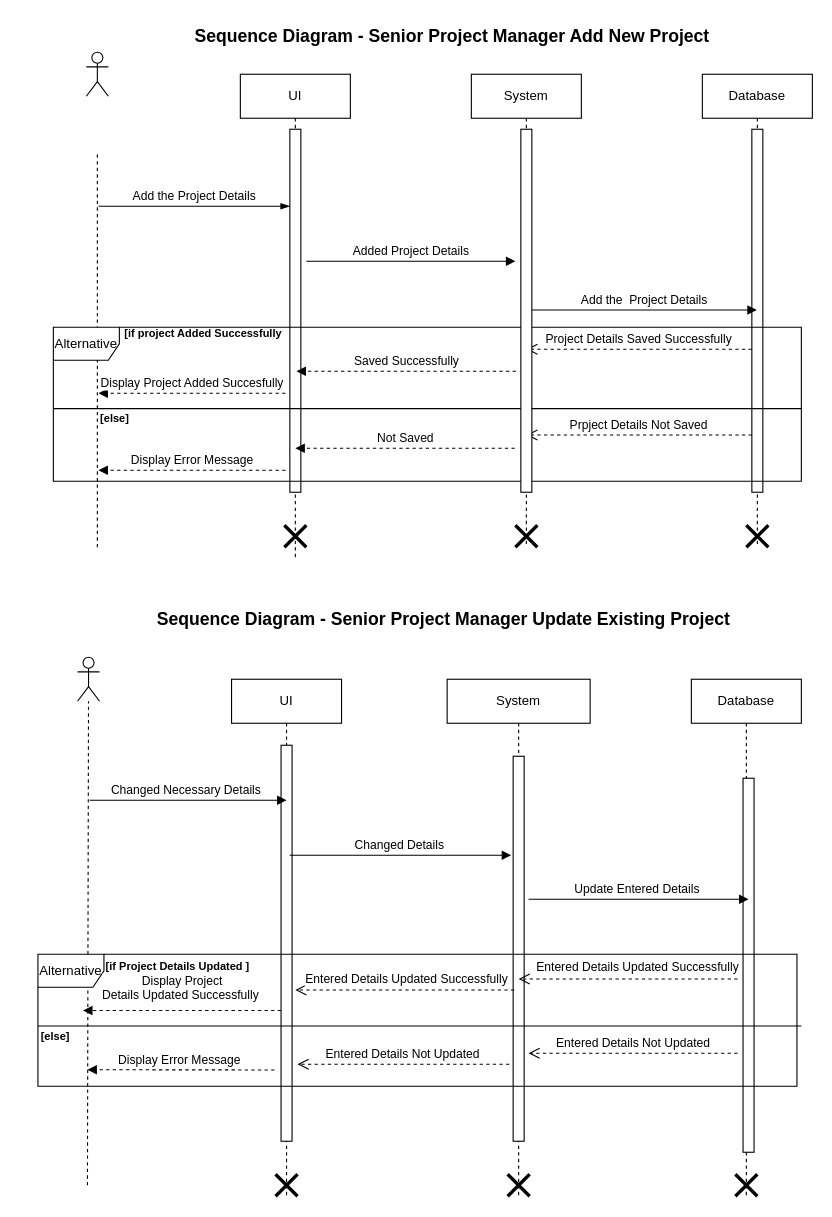
The diagram is 832 pixels wide and 1217 high, and some of its shapes have lost their labels. The shapes that lost their labels are listed below. From the top down, each one's box as (x1, y1, x2, y2) in pixels, then its label:
(85, 51, 108, 96): Senior Project Manger
(76, 656, 100, 701): Senior Project Manager
